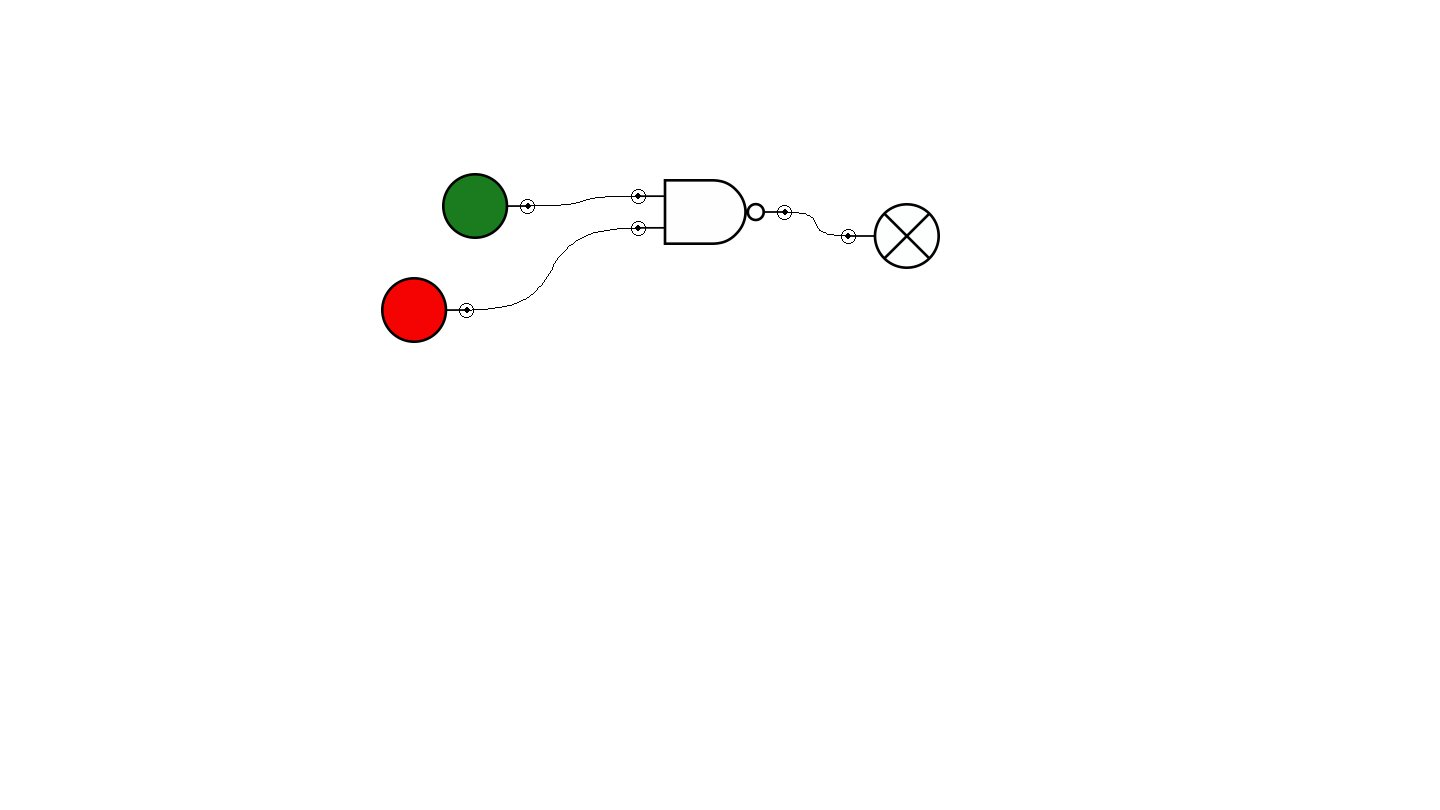bulb: (841, 203, 940, 269)
nand: (631, 179, 792, 245)
switch_False: (381, 277, 474, 343)
switch_True: (442, 173, 535, 239)
